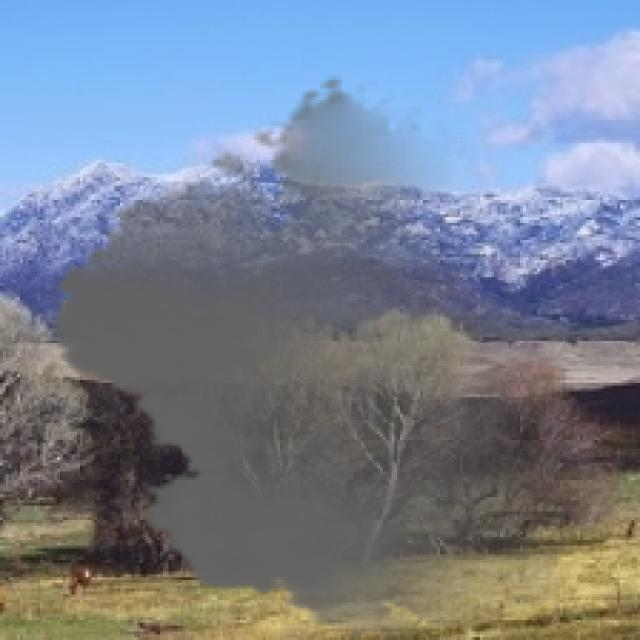Smoke: (34, 74, 603, 637)
